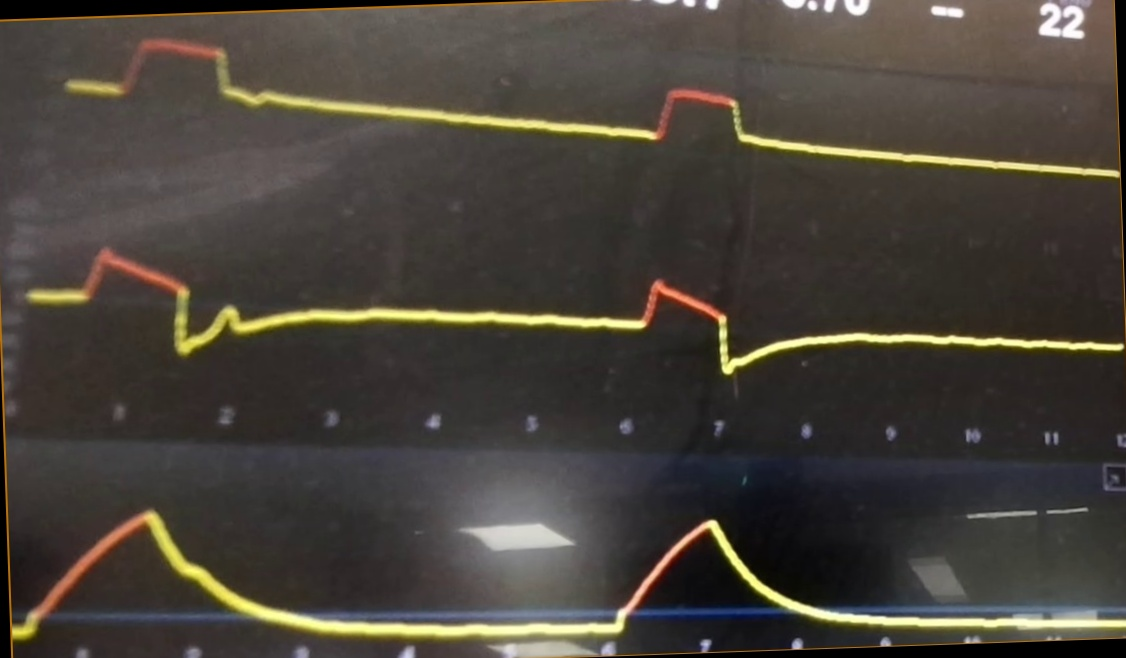Premature_cycling Flow: (29, 224, 1115, 381)
Premature_cycling Volume: (14, 496, 1096, 641)
